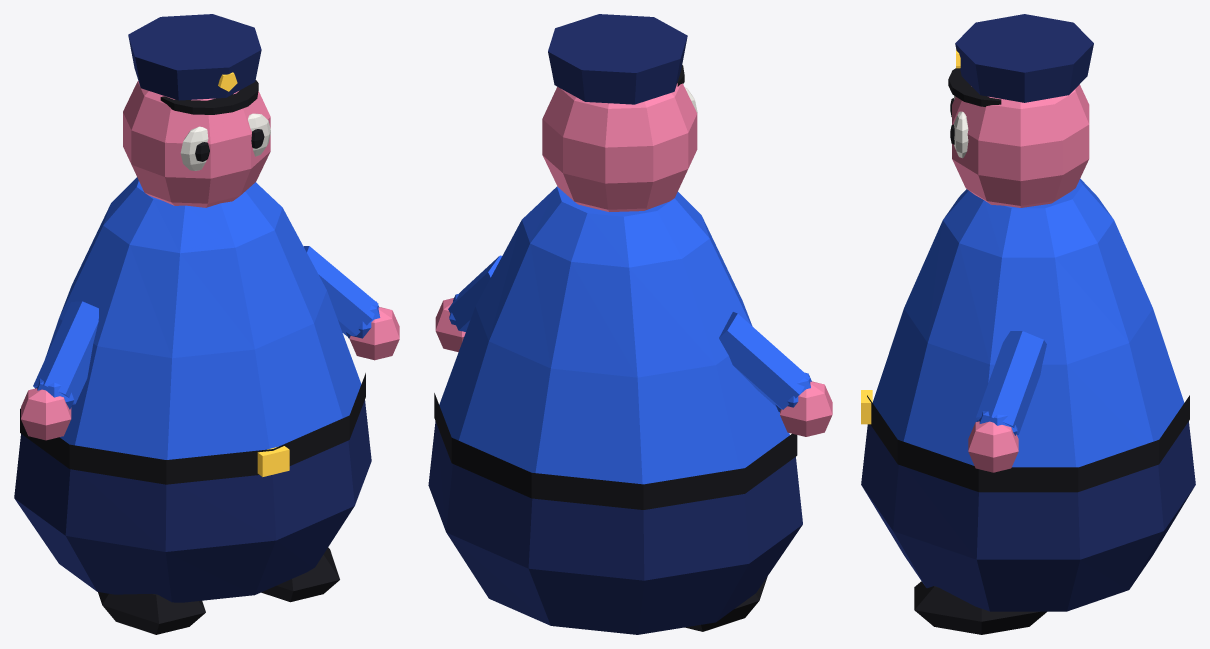
The model's file is cop_0.glb.
The picture shows the model from 3 angles, left to right: view 1: azimuth 30°, elevation 25°; view 2: azimuth 150°, elevation 25°; view 3: azimuth 270°, elevation 25°; orthographic projection. The views are drawn at different scales.
Visible parts, largest first — view 1: body_shirt, body_pants, head_skin_rosa, cap_cap, body_black, arms_shirt, legs_black, arms_skin_rosa, cap_black, face_white, body_gold; view 2: body_shirt, body_pants, head_skin_rosa, cap_cap, body_black, arms_shirt, arms_skin_rosa, legs_black; view 3: body_shirt, body_pants, head_skin_rosa, cap_cap, body_black, arms_shirt, legs_black, arms_skin_rosa, cap_black, face_white.
Part boxes in pixels (<box>): body_shirt: <box>45,177,361,459</box>; body_pants: <box>14,400,371,602</box>; head_skin_rosa: <box>123,81,270,207</box>; cap_cap: <box>128,14,261,100</box>; body_black: <box>20,373,365,484</box>; arms_shirt: <box>33,246,380,409</box>; legs_black: <box>98,547,339,634</box>; arms_skin_rosa: <box>21,307,399,440</box>; cap_black: <box>160,80,258,114</box>; face_white: <box>180,113,270,170</box>; body_gold: <box>257,446,289,476</box>; body_shirt: <box>439,186,789,484</box>; body_pants: <box>428,421,802,634</box>; head_skin_rosa: <box>542,83,697,211</box>; cap_cap: <box>548,14,687,104</box>; body_black: <box>434,393,797,509</box>; arms_shirt: <box>448,255,811,411</box>; arms_skin_rosa: <box>435,298,832,436</box>; legs_black: <box>684,576,767,631</box>; body_shirt: <box>872,178,1184,467</box>; body_pants: <box>861,421,1195,611</box>; head_skin_rosa: <box>952,84,1089,207</box>; cap_cap: <box>955,14,1093,102</box>; body_black: <box>867,395,1189,492</box>; arms_shirt: <box>976,331,1046,435</box>; legs_black: <box>914,581,1046,634</box>; arms_skin_rosa: <box>968,421,1018,472</box>; cap_black: <box>948,68,1001,106</box>; face_white: <box>954,96,968,158</box>.
Size of the model in its own units: 1.13 by 1.56 by 0.86.
